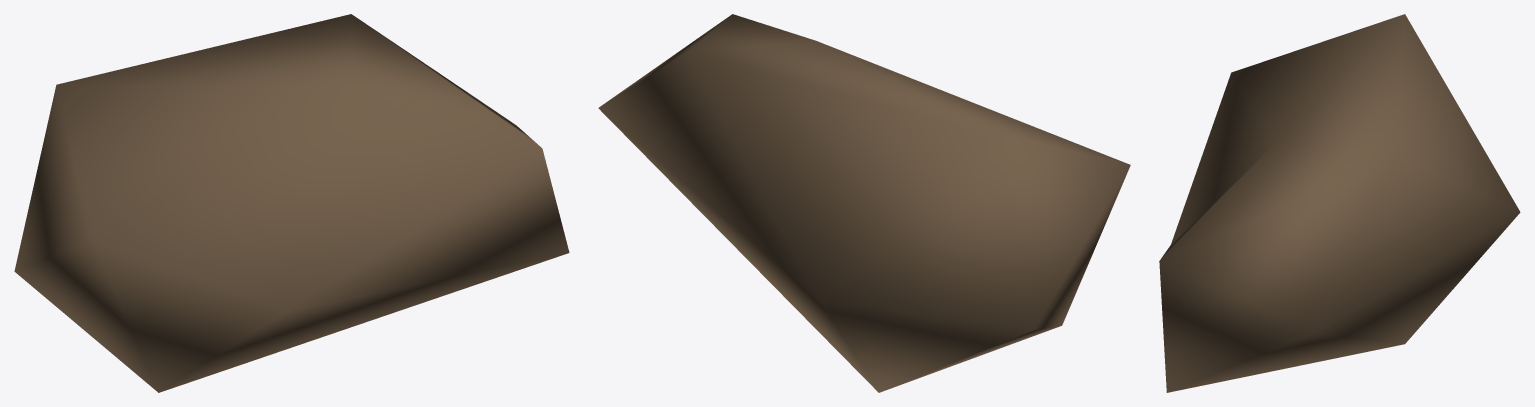
File: G_dirt_02.fbx
3 renders of one model, left to right at view 1: azimuth 30°, elevation 25°; view 2: azimuth 150°, elevation 25°; view 3: azimuth 270°, elevation 25°, orthographic. The views are drawn at different scales.
Visible parts, largest first — view 1: lod1; view 2: lod1; view 3: lod1.
Boxes of the visible parts, <box> form: lod1: <box>14,14,569,392</box>; lod1: <box>598,14,1130,392</box>; lod1: <box>1159,14,1520,392</box>.
Bounding box in the file's own units: 7.57 × 4.28 × 5.01.
1 material, 1 textured.
